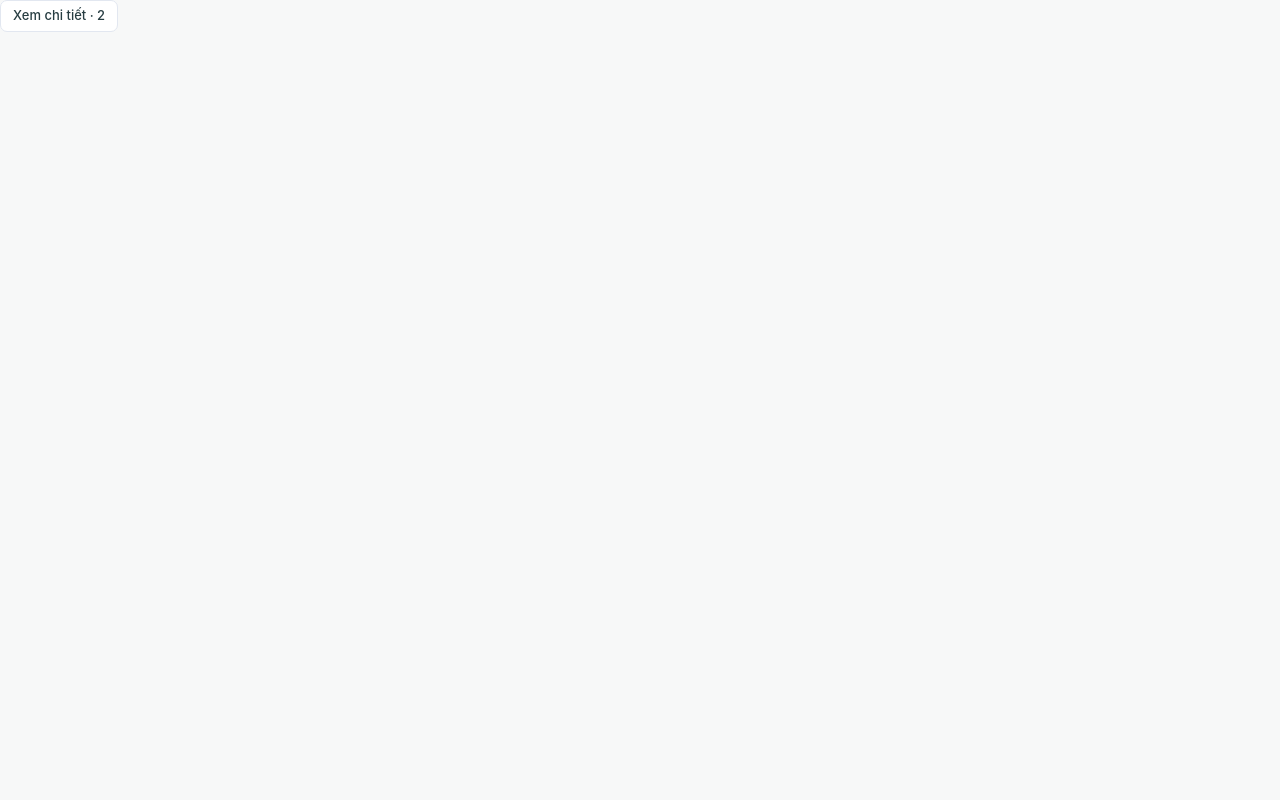
JobActivity › counts actionable errors consistently and moves information to activity
Click the button "Xem chi tiết · 2" at (59, 16), box [0,0,118,32]
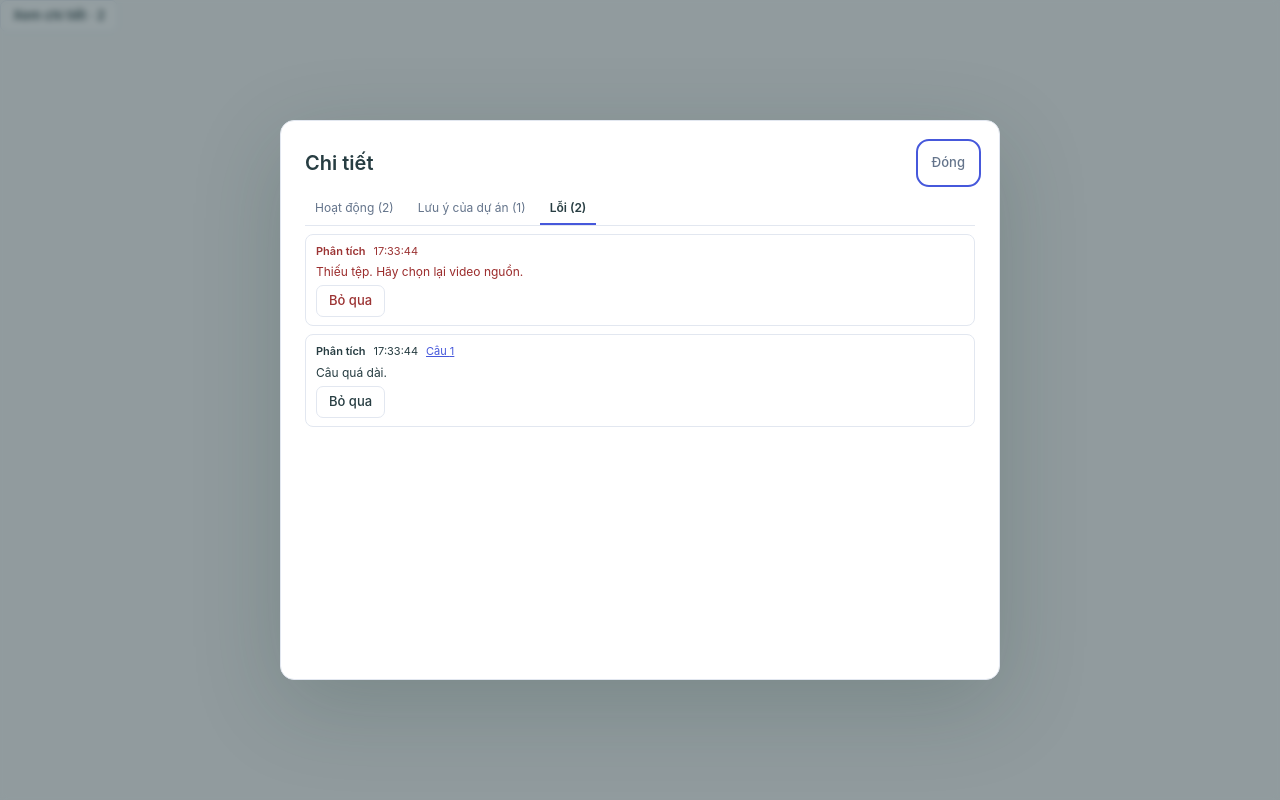
Check: the text "Đã gộp 3 lời gốc." is not shown
Check: the tab "Lỗi (2)" is shown, box [540,192,596,224]
Check: the text "Thiếu tệp. Hãy chọn lại video nguồn." is shown, box [316,264,523,279]
Click the tab "Hoạt động (2)" at (354, 208), box [305,192,404,224]
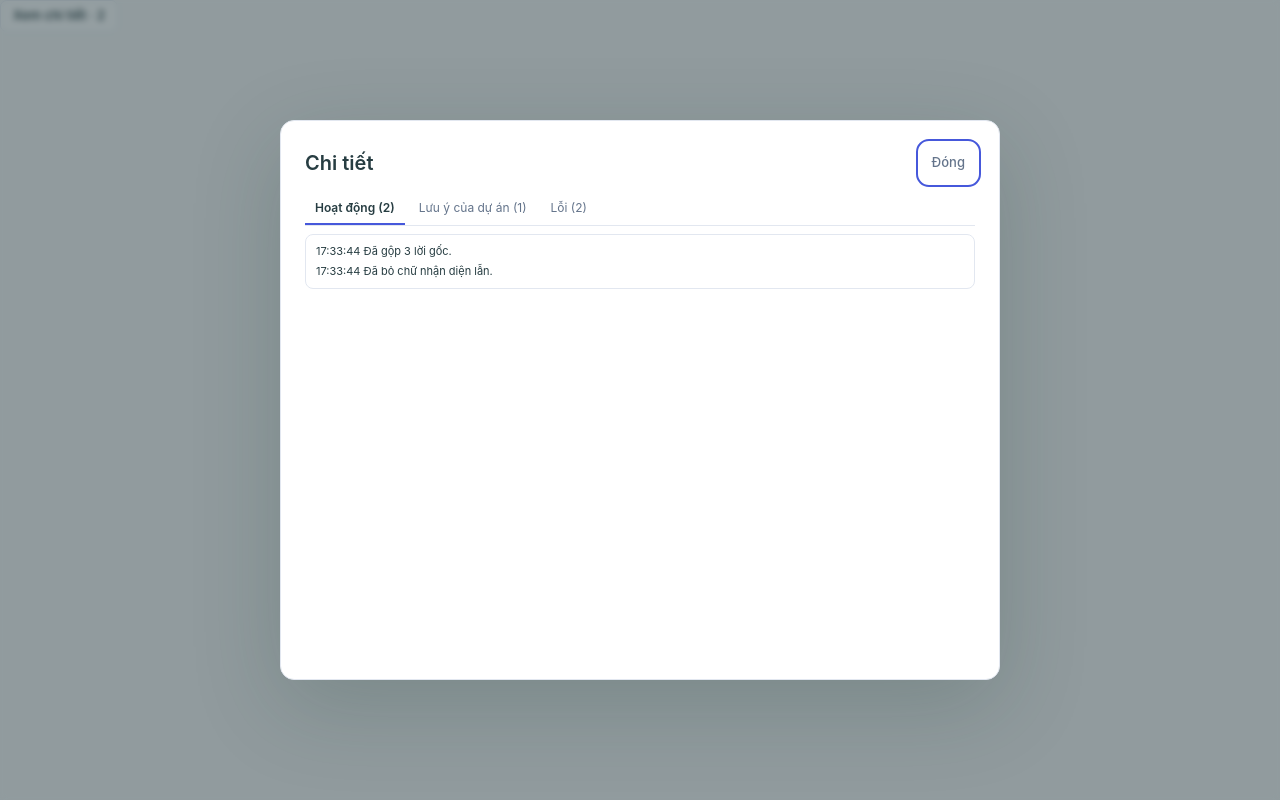
Check: the list item "Đã gộp 3 lời gốc." is shown, box [364,244,452,258]
Check: the list item "Đã bỏ chữ nhận diện lẫn." is shown, box [364,264,493,278]
